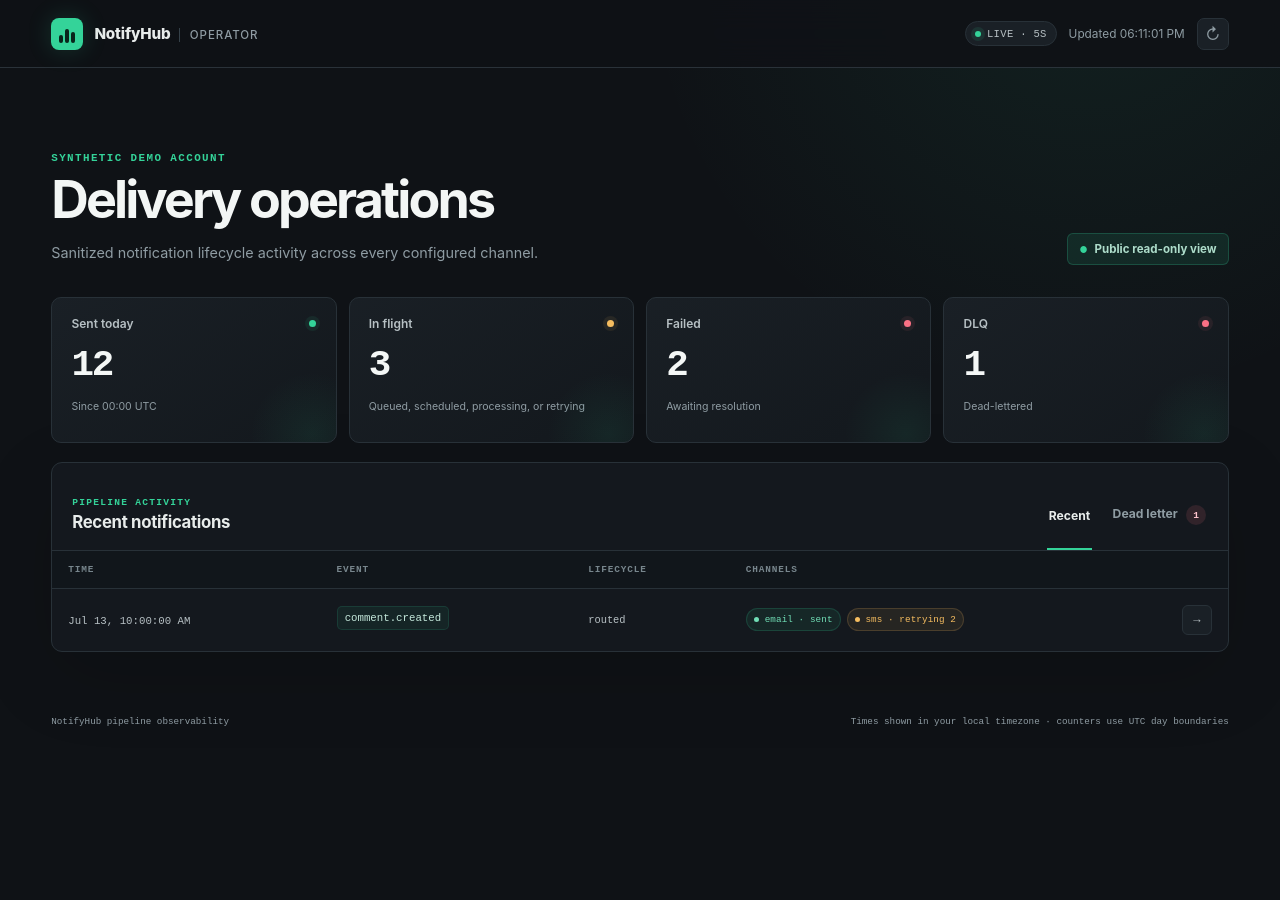
Scenario: operator dashboard › clears the in-memory key when the operator locks controls
The image size is (1280, 900).
Click the tab "Dead letter 1". click: point(1159, 516)
box: 1111,482 -> 1208,550
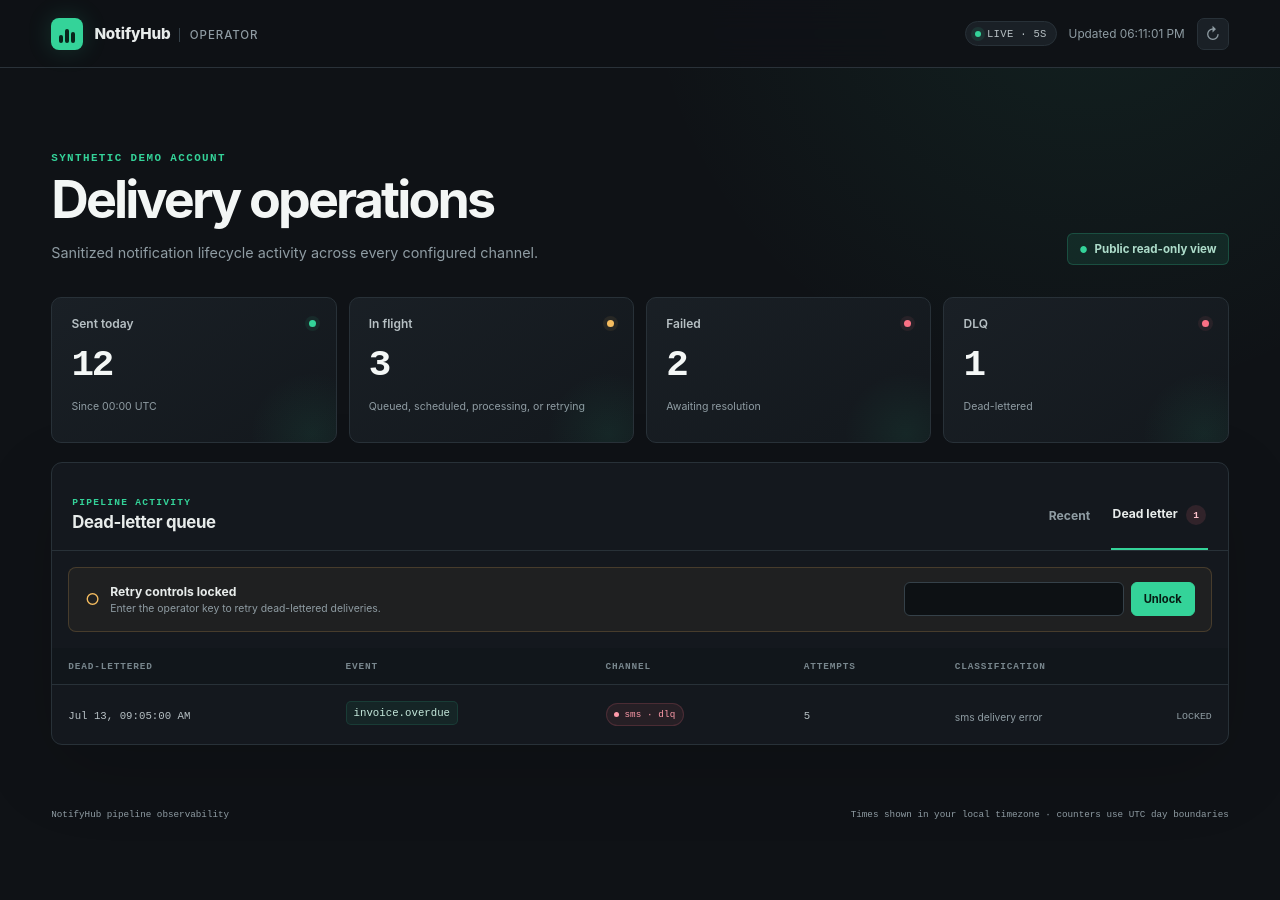
Type "temporary-key" into the password field named "Operator key". click: point(1014, 599)
box: 904,582 -> 1124,616
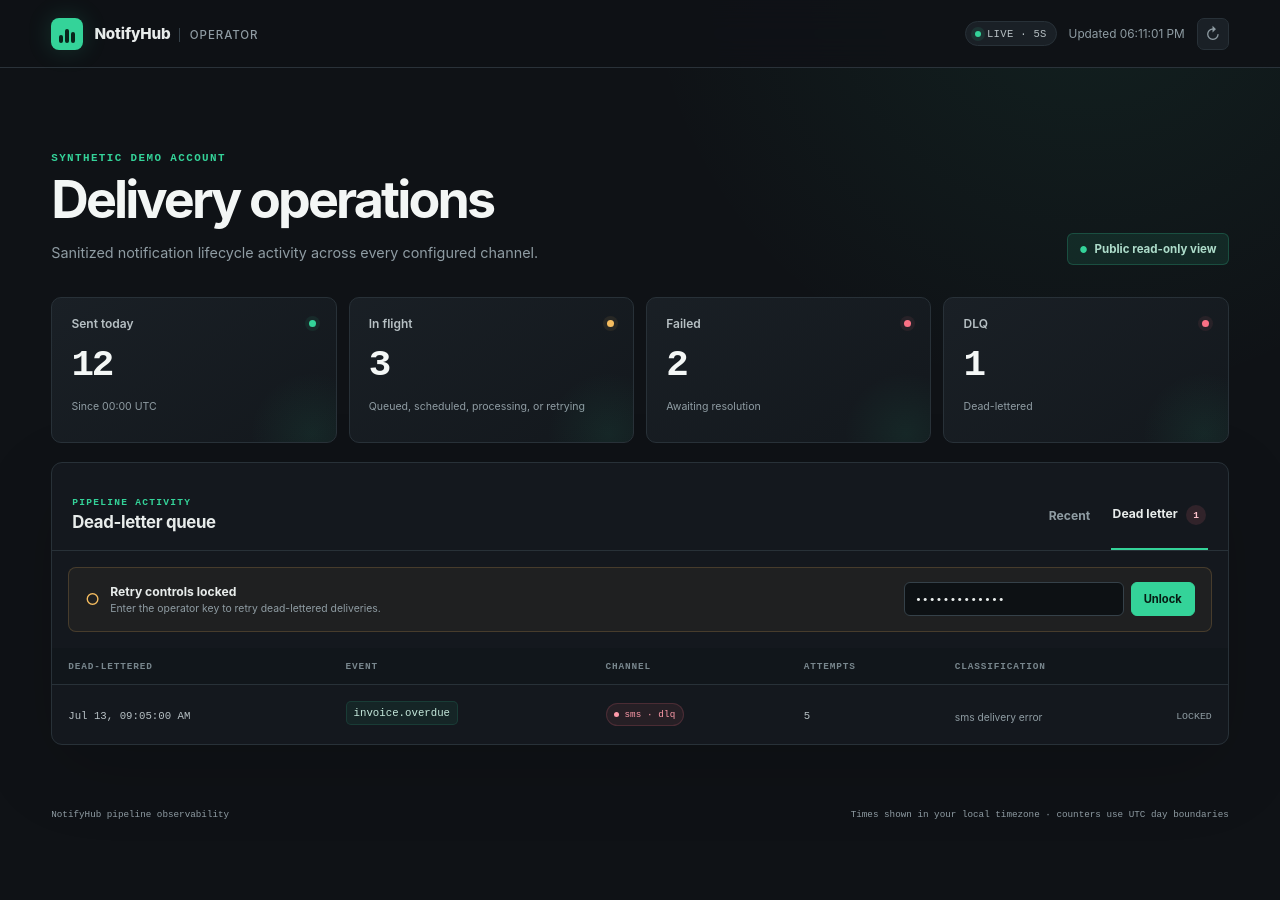
Submit the form named "Operator key", box 904,582 -> 1195,616
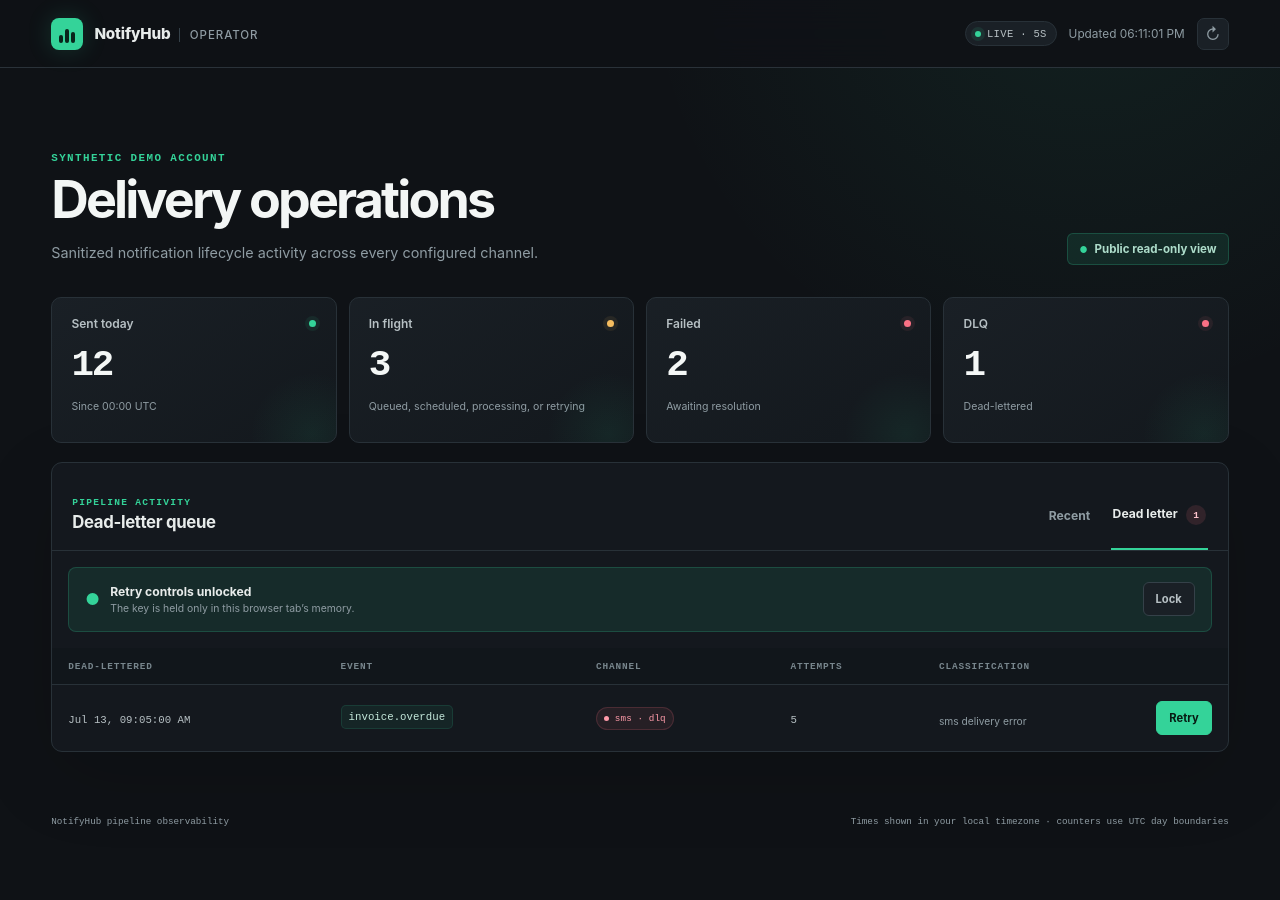
Click the button "Lock". click: point(1169, 599)
box: 1142,582 -> 1195,616
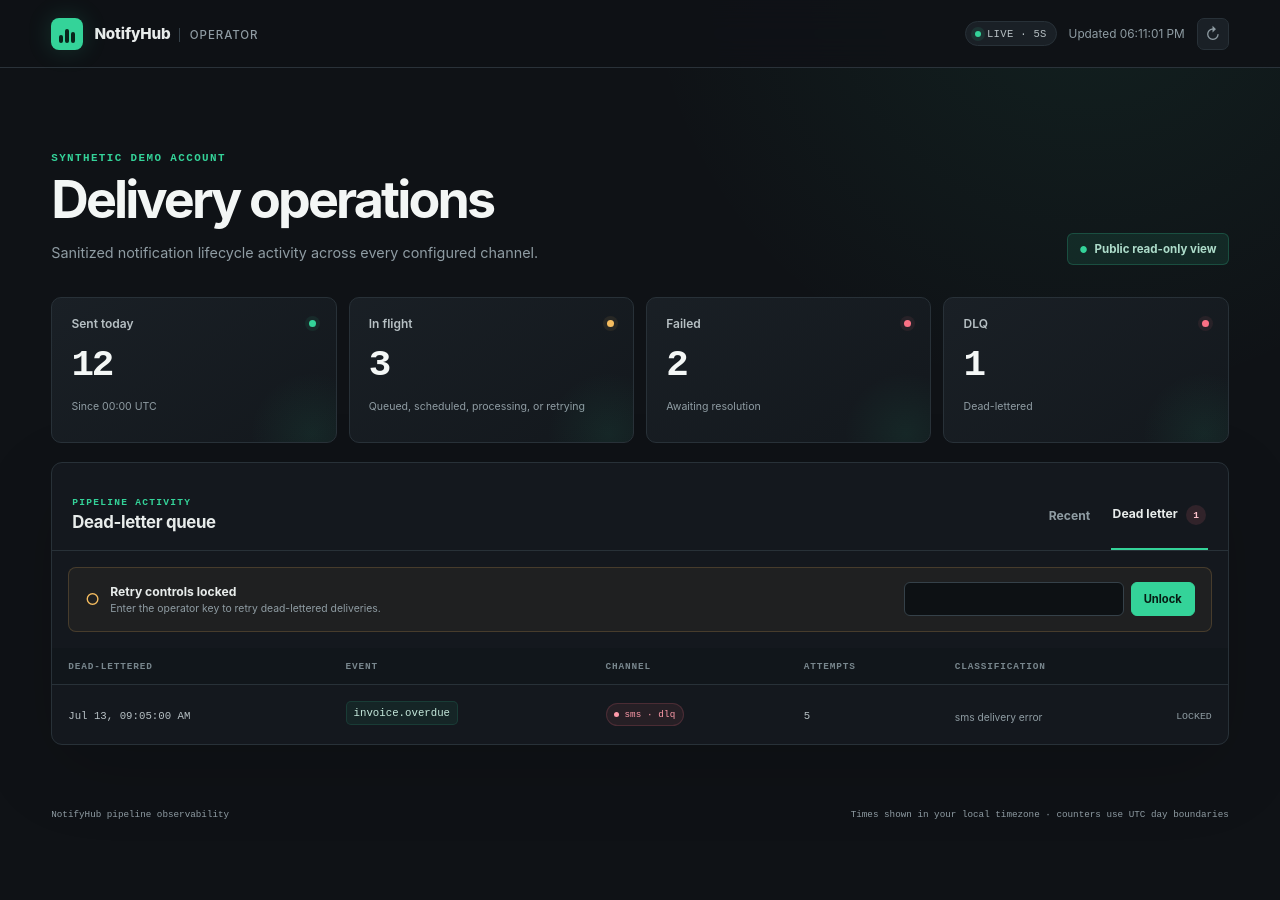
Now the password field named "Operator key" is empty, box 904,582 -> 1124,616
Now the text "Retry controls locked" is shown, box 110,584 -> 236,599
